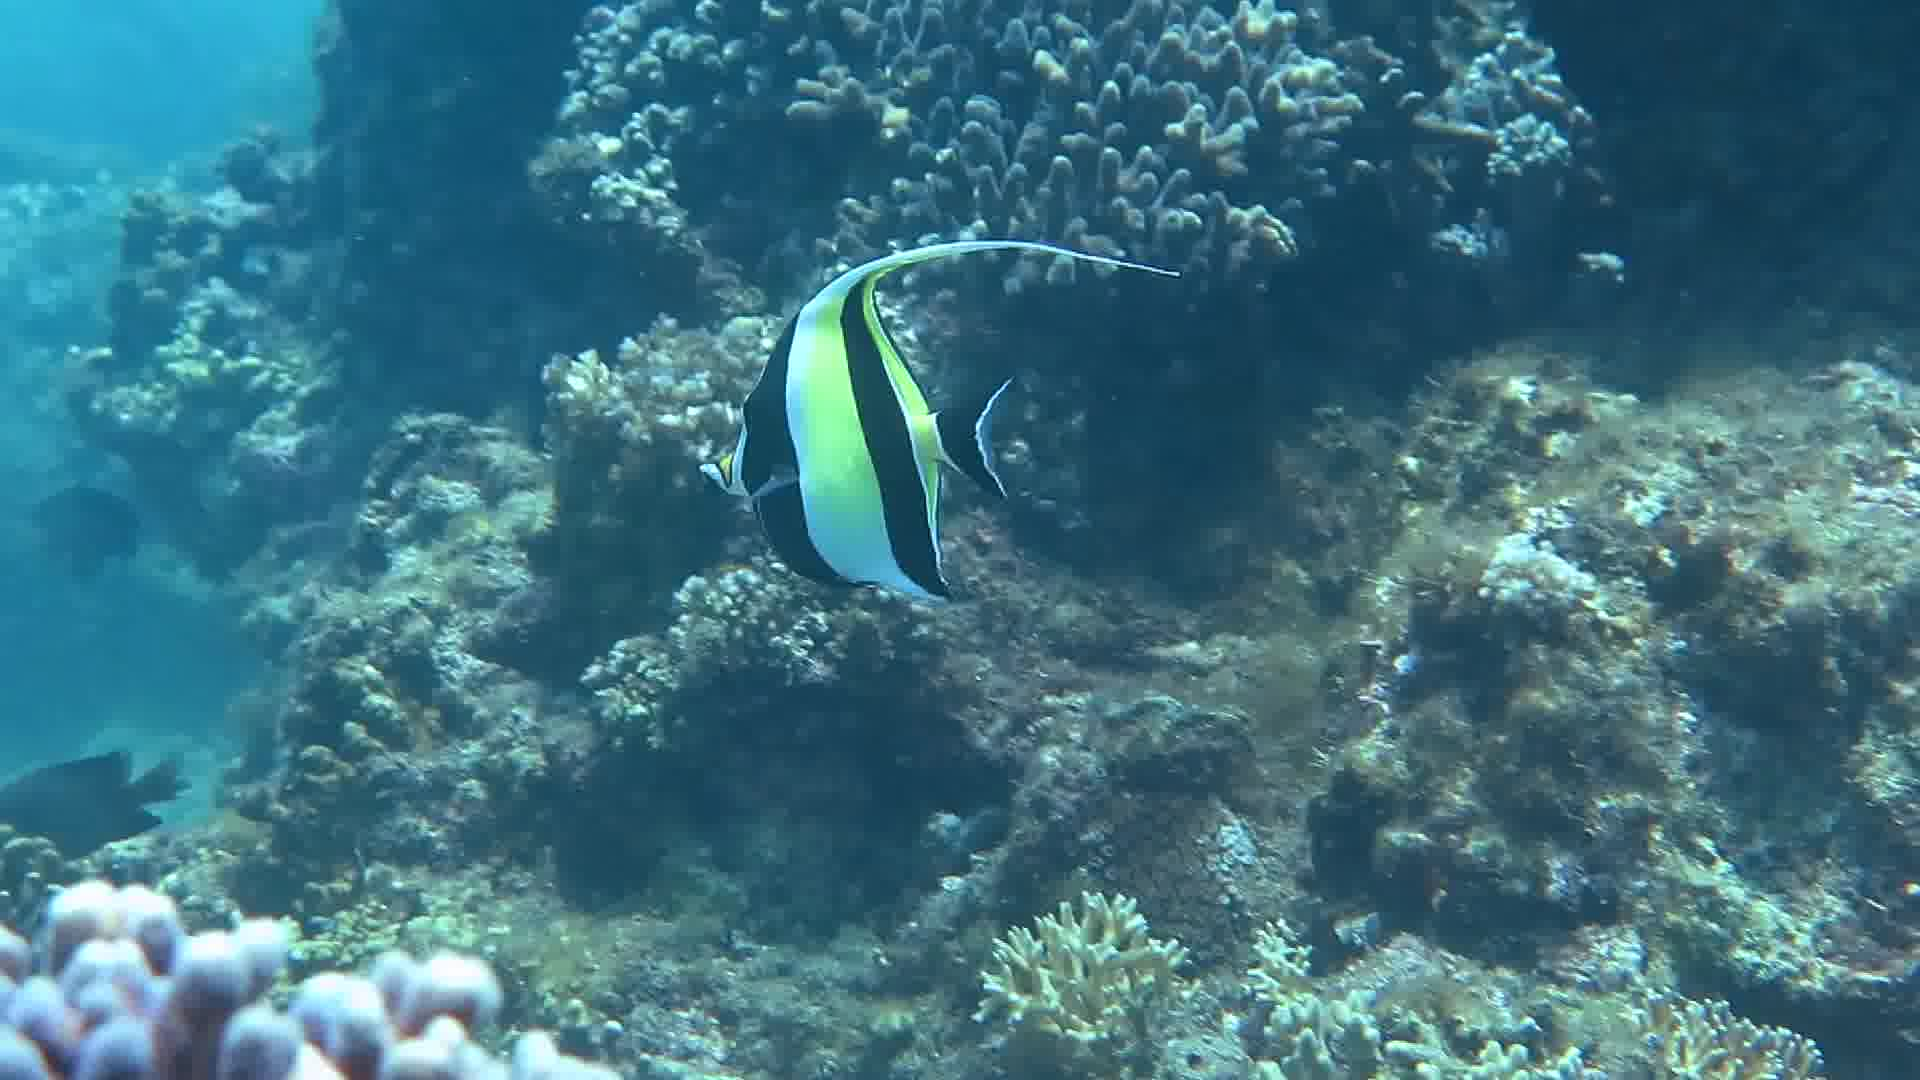Zanclus cornutus: (688, 208, 1046, 628)
